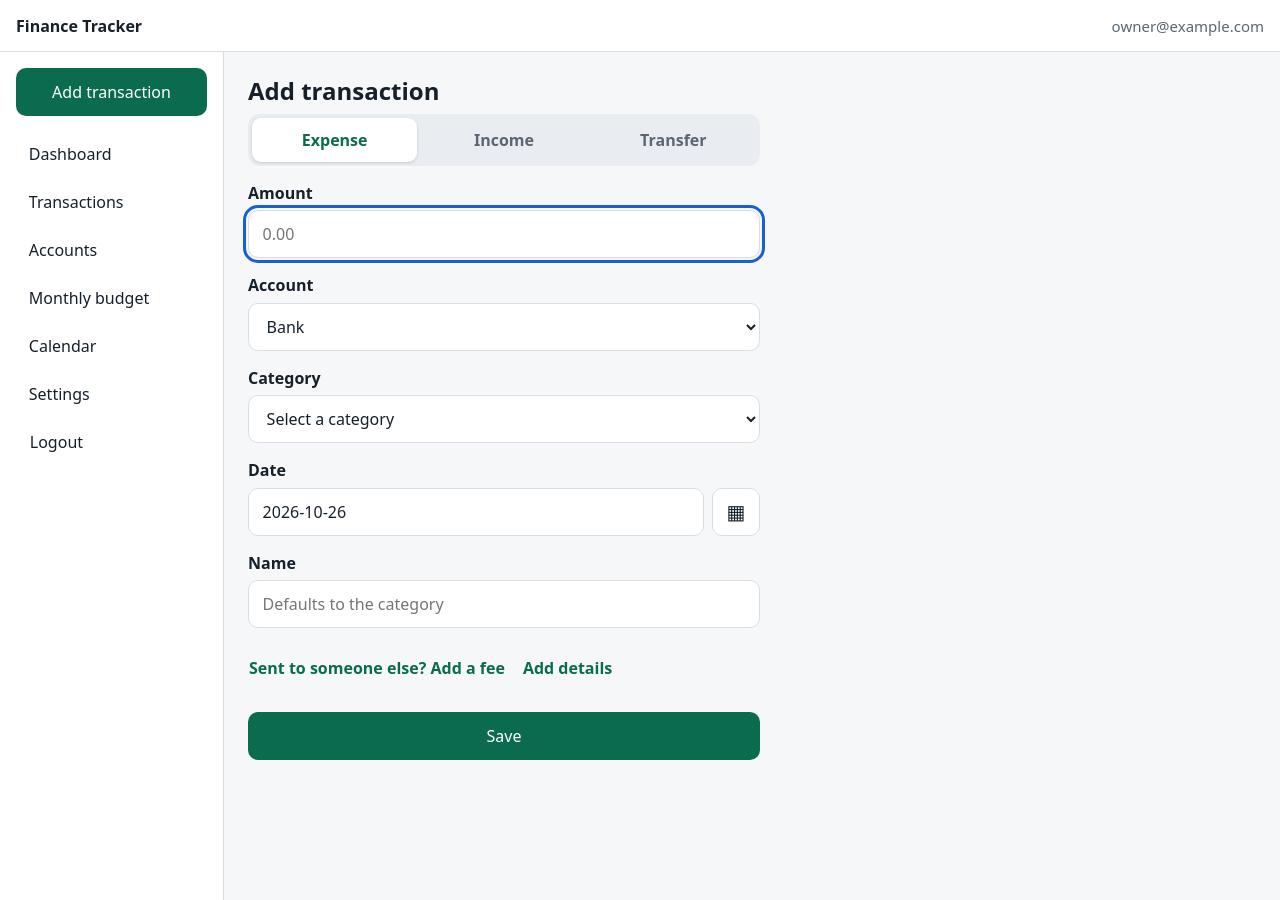
it: transfer form › shows From and To instead of a category, with different defaults
What coordinates should you click on to do the following:
click the radio button labelled "Transfer"
I would click on:
 (673, 140)
Its box is [591,118,756,162].
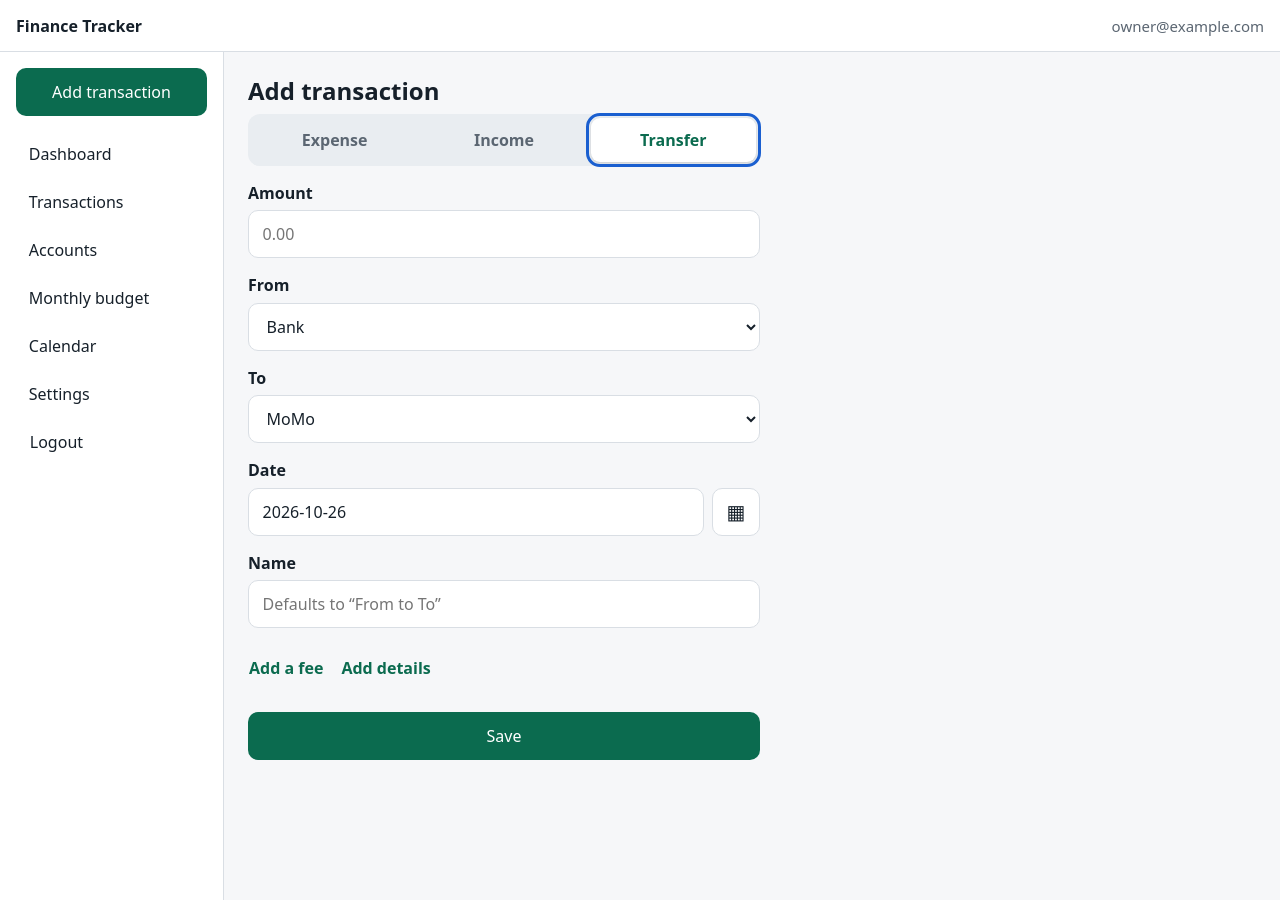
Expected: the dropdown labelled "From" shows "Bank", [248,303,760,351]
Expected: the dropdown labelled "To" shows "MoMo", [248,395,760,443]
Expected: the label labelled "Category" is gone
